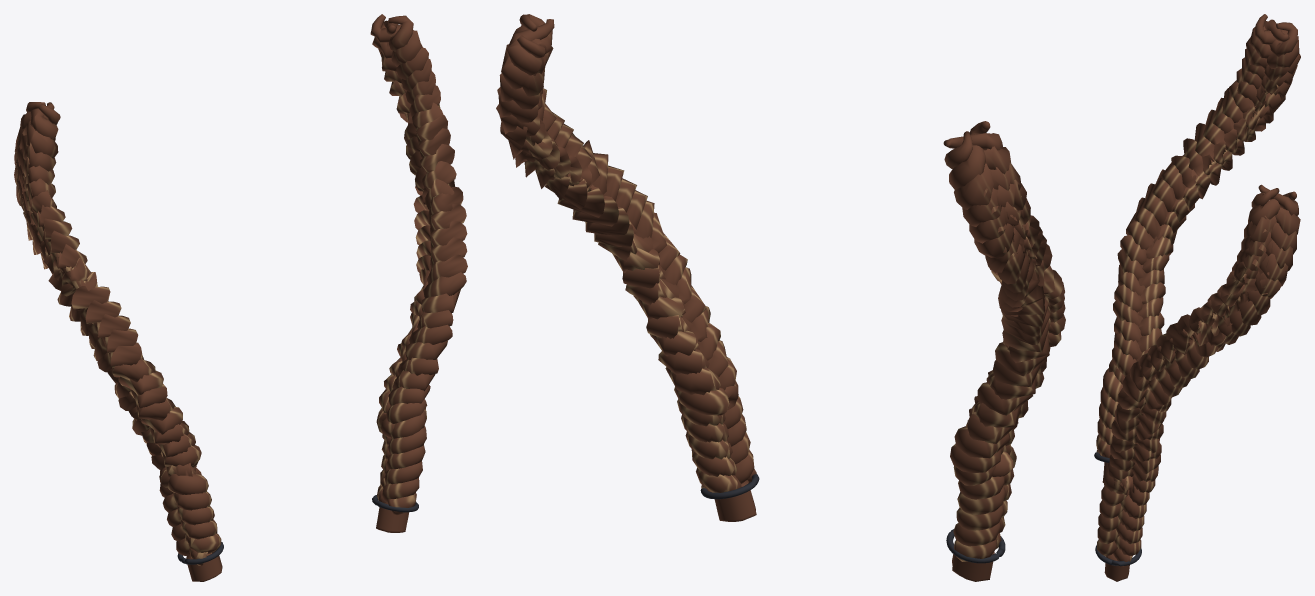
Rendered from Highlights-d348a3fe28a1252-hair.glb.
3 renders of one model, left to right at view 1: azimuth 30°, elevation 25°; view 2: azimuth 150°, elevation 25°; view 3: azimuth 270°, elevation 25°, orthographic. The views are drawn at different scales.
Parts seen in each view (by area): view 1: 226 hairLengths / Hair / chestnut226, 226 hairLengths / Hair / ties226; view 2: 226 hairLengths / Hair / chestnut226, 226 hairLengths / Hair / ties226; view 3: 226 hairLengths / Hair / chestnut226, 226 hairLengths / Hair / ties226.
Part boxes in pixels (bbox=[...]): 226 hairLengths / Hair / chestnut226: bbox=[14, 14, 467, 581]; 226 hairLengths / Hair / ties226: bbox=[177, 495, 418, 564]; 226 hairLengths / Hair / chestnut226: bbox=[496, 14, 1065, 581]; 226 hairLengths / Hair / ties226: bbox=[700, 474, 1005, 563]; 226 hairLengths / Hair / chestnut226: bbox=[1096, 14, 1300, 581]; 226 hairLengths / Hair / ties226: bbox=[1094, 452, 1141, 566].
Size of the model in its own units: 1.03 by 1.06 by 0.4591.
Materials: 2 (1 with a texture image).
